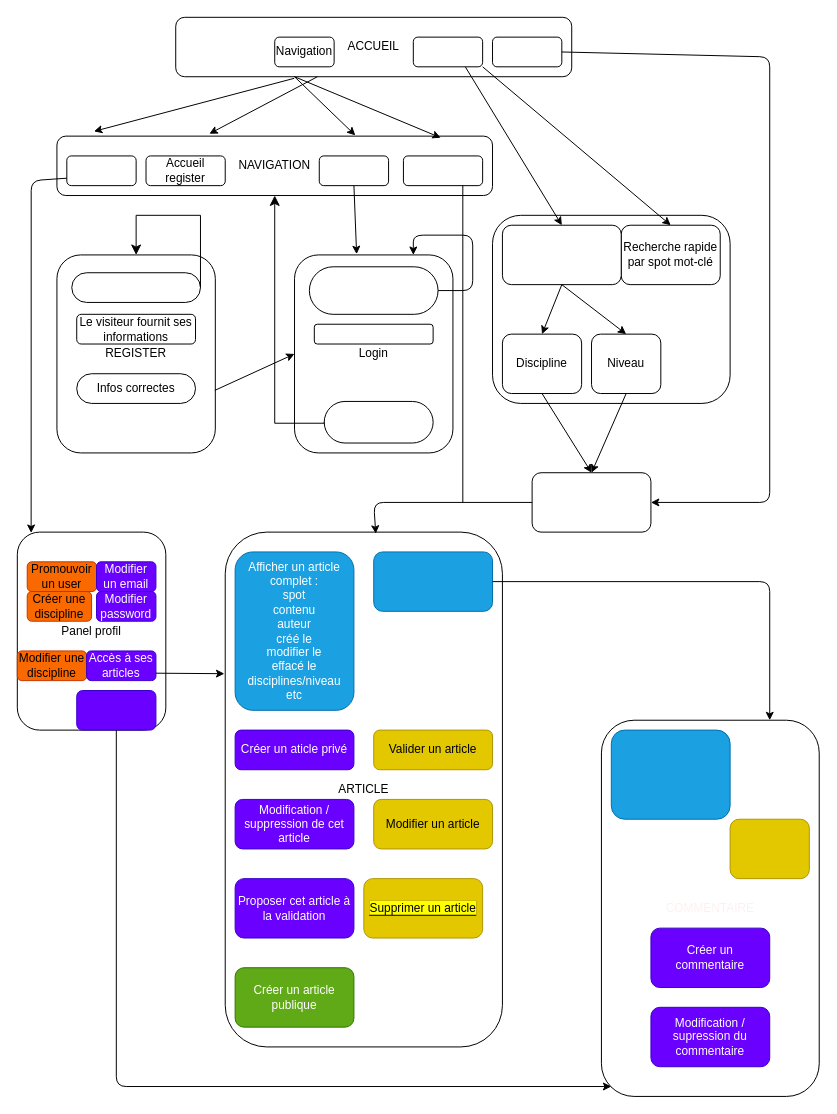
Image size: 837x1114. Some labels were removed from this diagram. Each missing label, with the centre of its shape:
"Accueil login" goes at (x=353, y=170).
"Accès profiil" goes at (x=101, y=170).
"Accès à ses commentaires" goes at (x=116, y=710).
"Afficher les commentaires associés à cet article" goes at (x=433, y=581).
"Infos correctes connexion" goes at (x=378, y=421).
"Infos incorrectes" goes at (x=135, y=287).
"Infos incorrectes : relog" goes at (x=373, y=290).
"L'utilisateur se log" goes at (x=373, y=333).
"Nouvel article" goes at (x=442, y=170).
"Recherche" goes at (x=447, y=51).
"Recherche par catégorie" goes at (x=561, y=254).
"Resultat recherche" goes at (x=527, y=51).
"Résultat de la recherche : articles correspondants puis choix d'un article" goes at (x=591, y=502).
"Supression d'un commentaire" goes at (x=769, y=848).
"Un commentaire : auteur contenu date de création date de modification" goes at (x=670, y=774).
